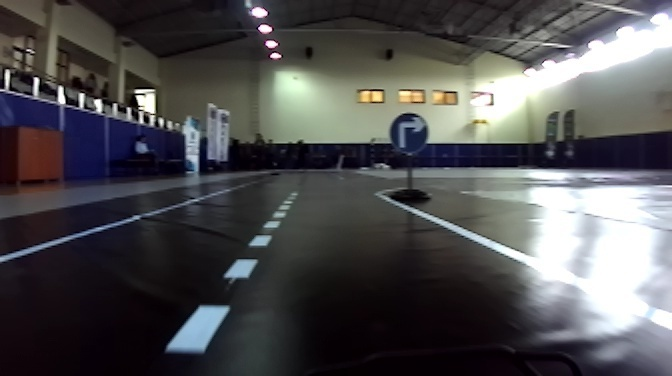saga_donus: (389, 113, 427, 151)
